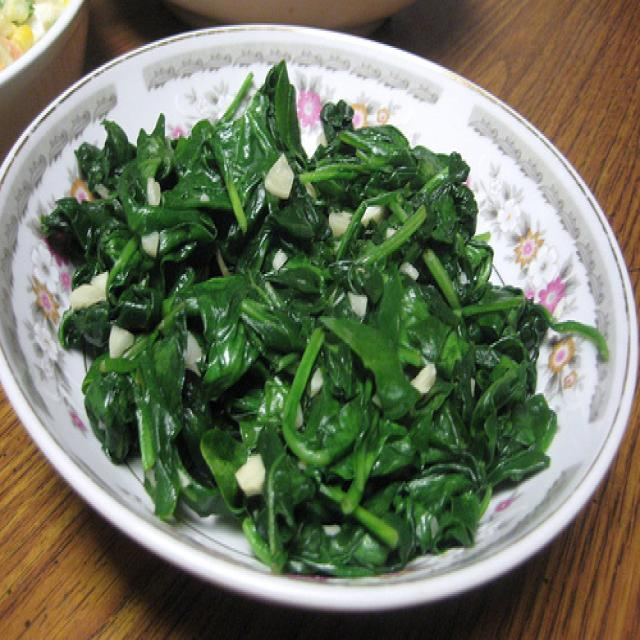蔬菜料理: (13, 51, 623, 602)
